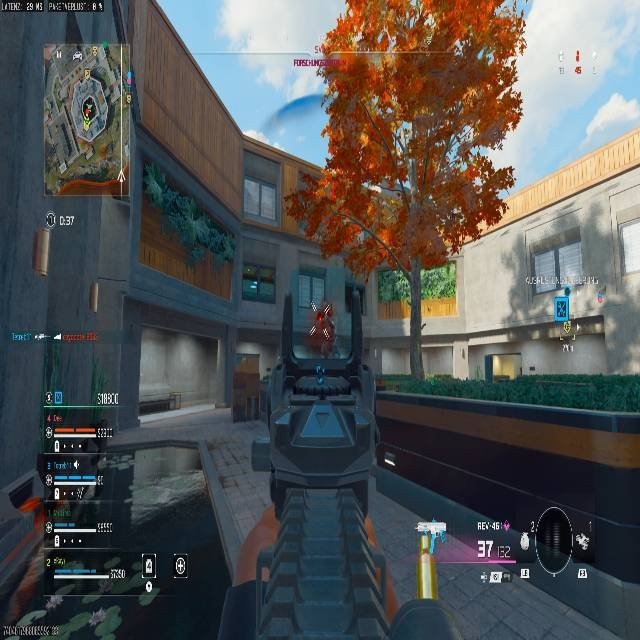player: (314, 312, 334, 358)
